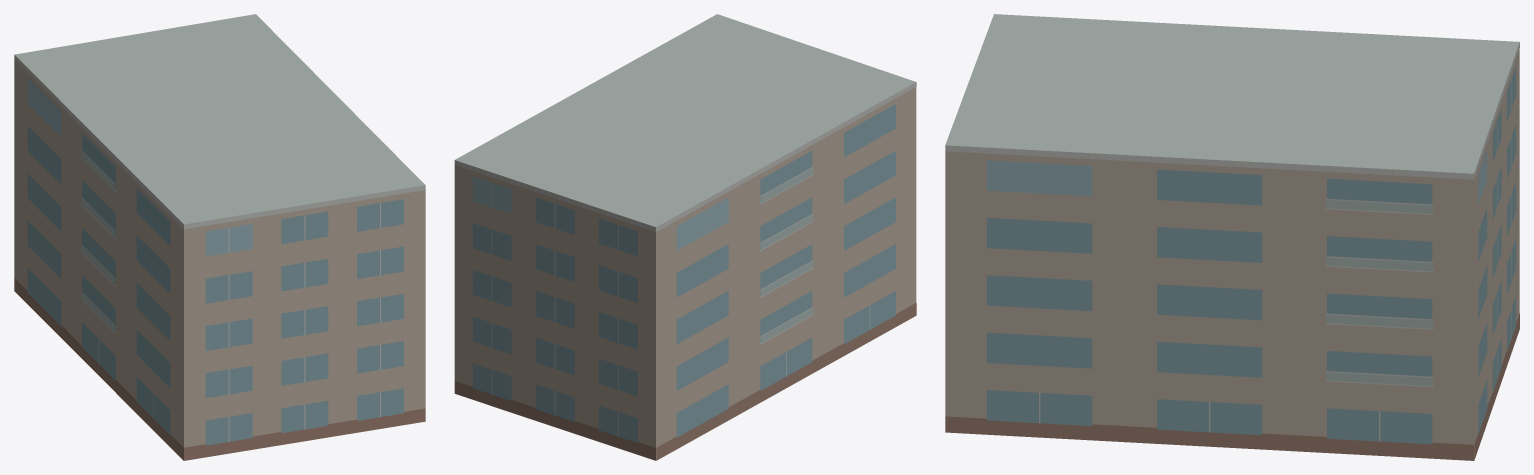
Rendered from survey-upis-32948239.glb.
3 renders of one model, left to right at view 1: azimuth 30°, elevation 25°; view 2: azimuth 150°, elevation 25°; view 3: azimuth 270°, elevation 25°, orthographic. The views are drawn at different scales.
Parts seen in each view (by area): view 1: survey-upis-32948239.tmp; view 2: survey-upis-32948239.tmp; view 3: survey-upis-32948239.tmp.
Boxes of the visible parts, x1=… form: survey-upis-32948239.tmp: x1=14, y1=14, x2=425, y2=460; survey-upis-32948239.tmp: x1=454, y1=14, x2=916, y2=460; survey-upis-32948239.tmp: x1=945, y1=14, x2=1519, y2=460.
Bounding box in the file's own units: 14.03 × 11.75 × 21.33.
